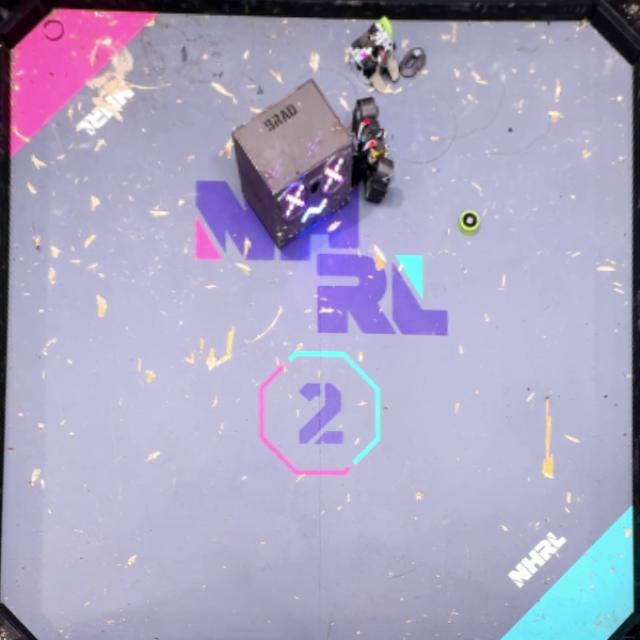housebot: (230, 76, 356, 250)
robot: (349, 96, 395, 204), (346, 16, 402, 92)
